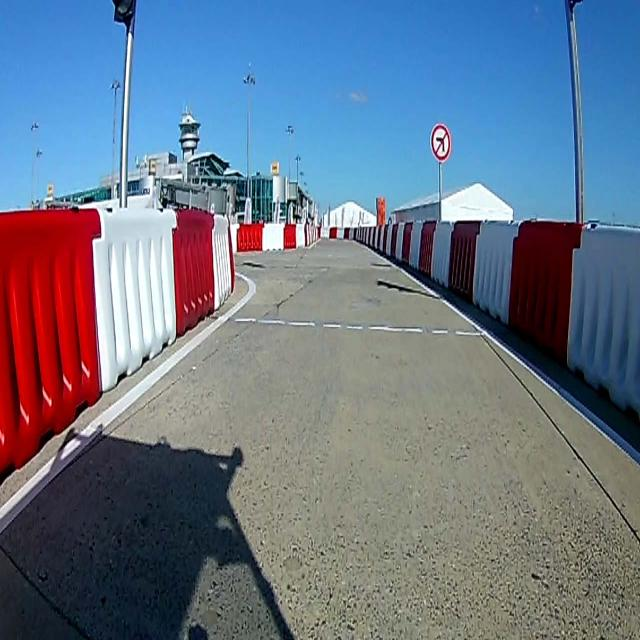soladonulmez: (431, 122, 451, 162)
